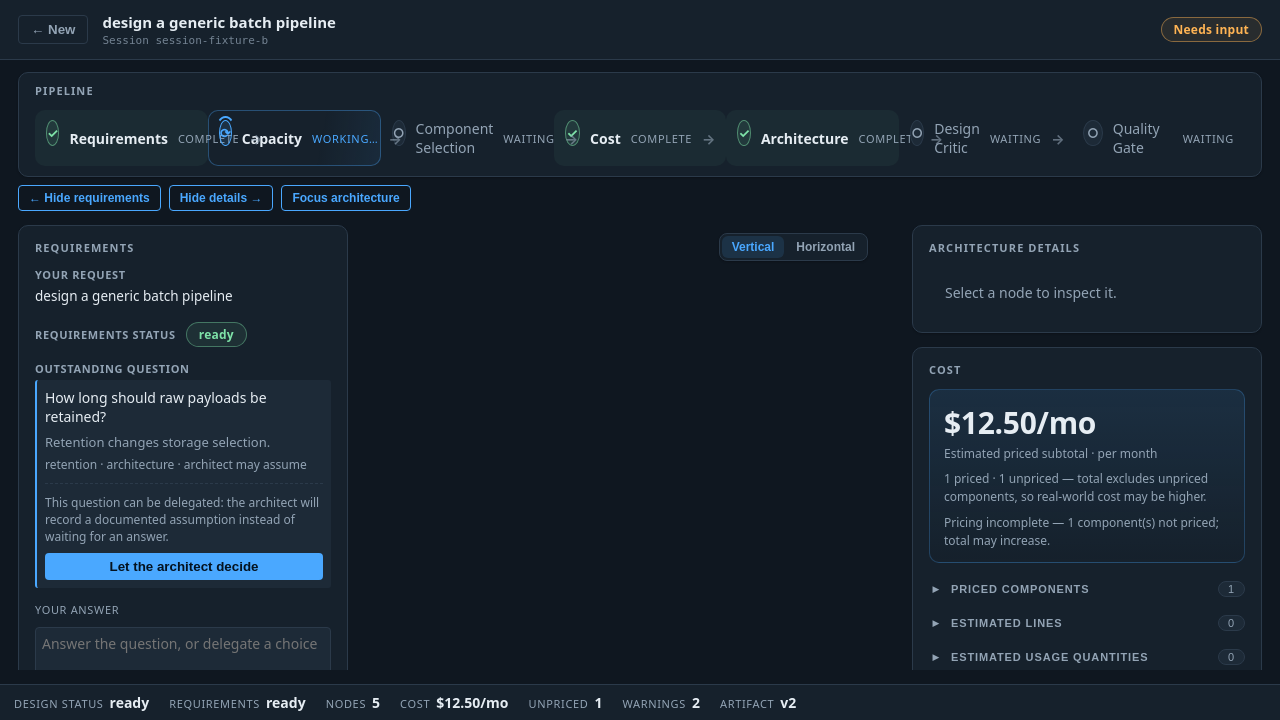
Scenario: clarification submission › surfaces a failed submission
Type "anything" into the text box labelled "Your answer" at (183, 662), box left=35, top=627, right=331, bottom=698
(page scrolled)
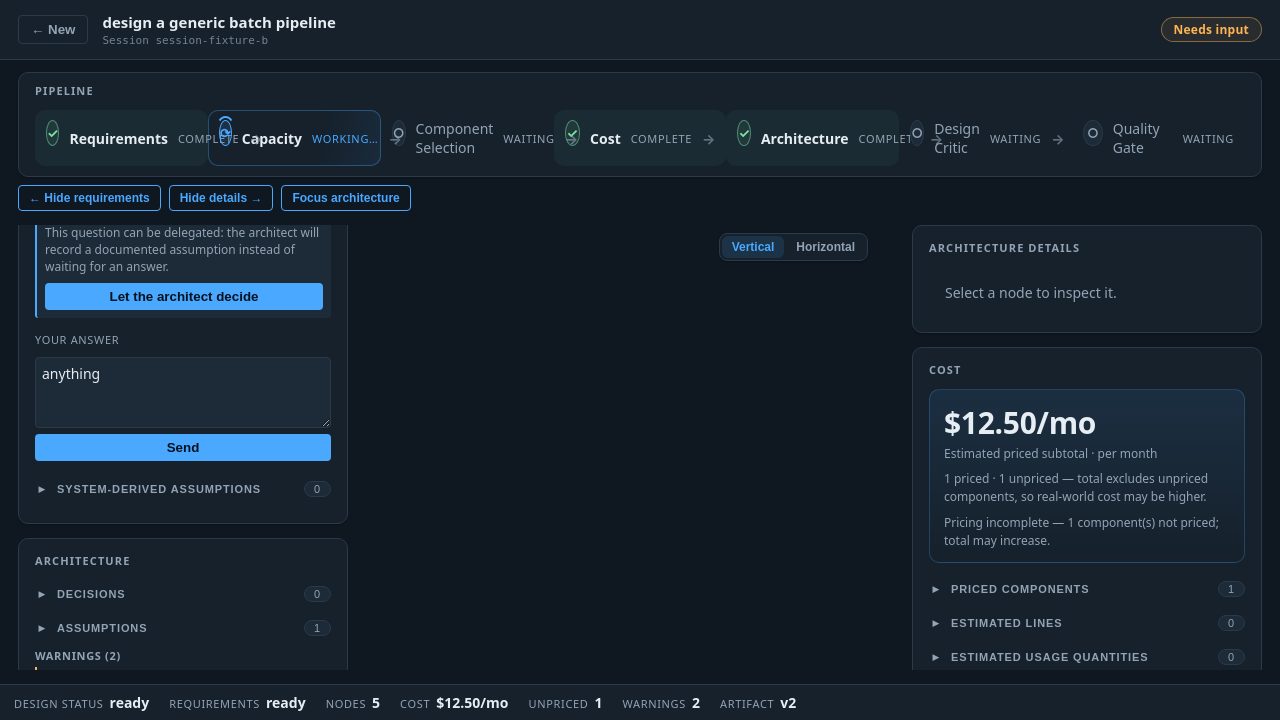
Submit the form from the submit button, box left=35, top=434, right=331, bottom=461
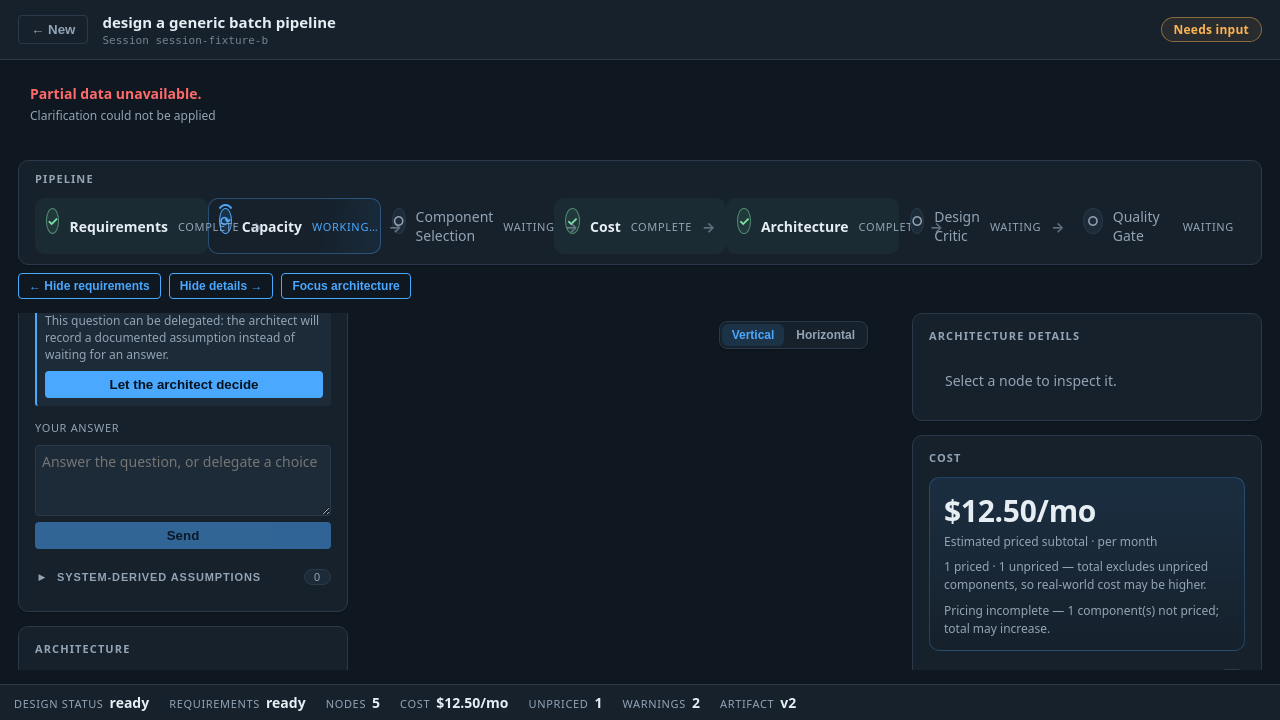
Expected: the message "Partial data unavailable. Clarification could not be applied" is shown, left=30, top=84, right=216, bottom=124
